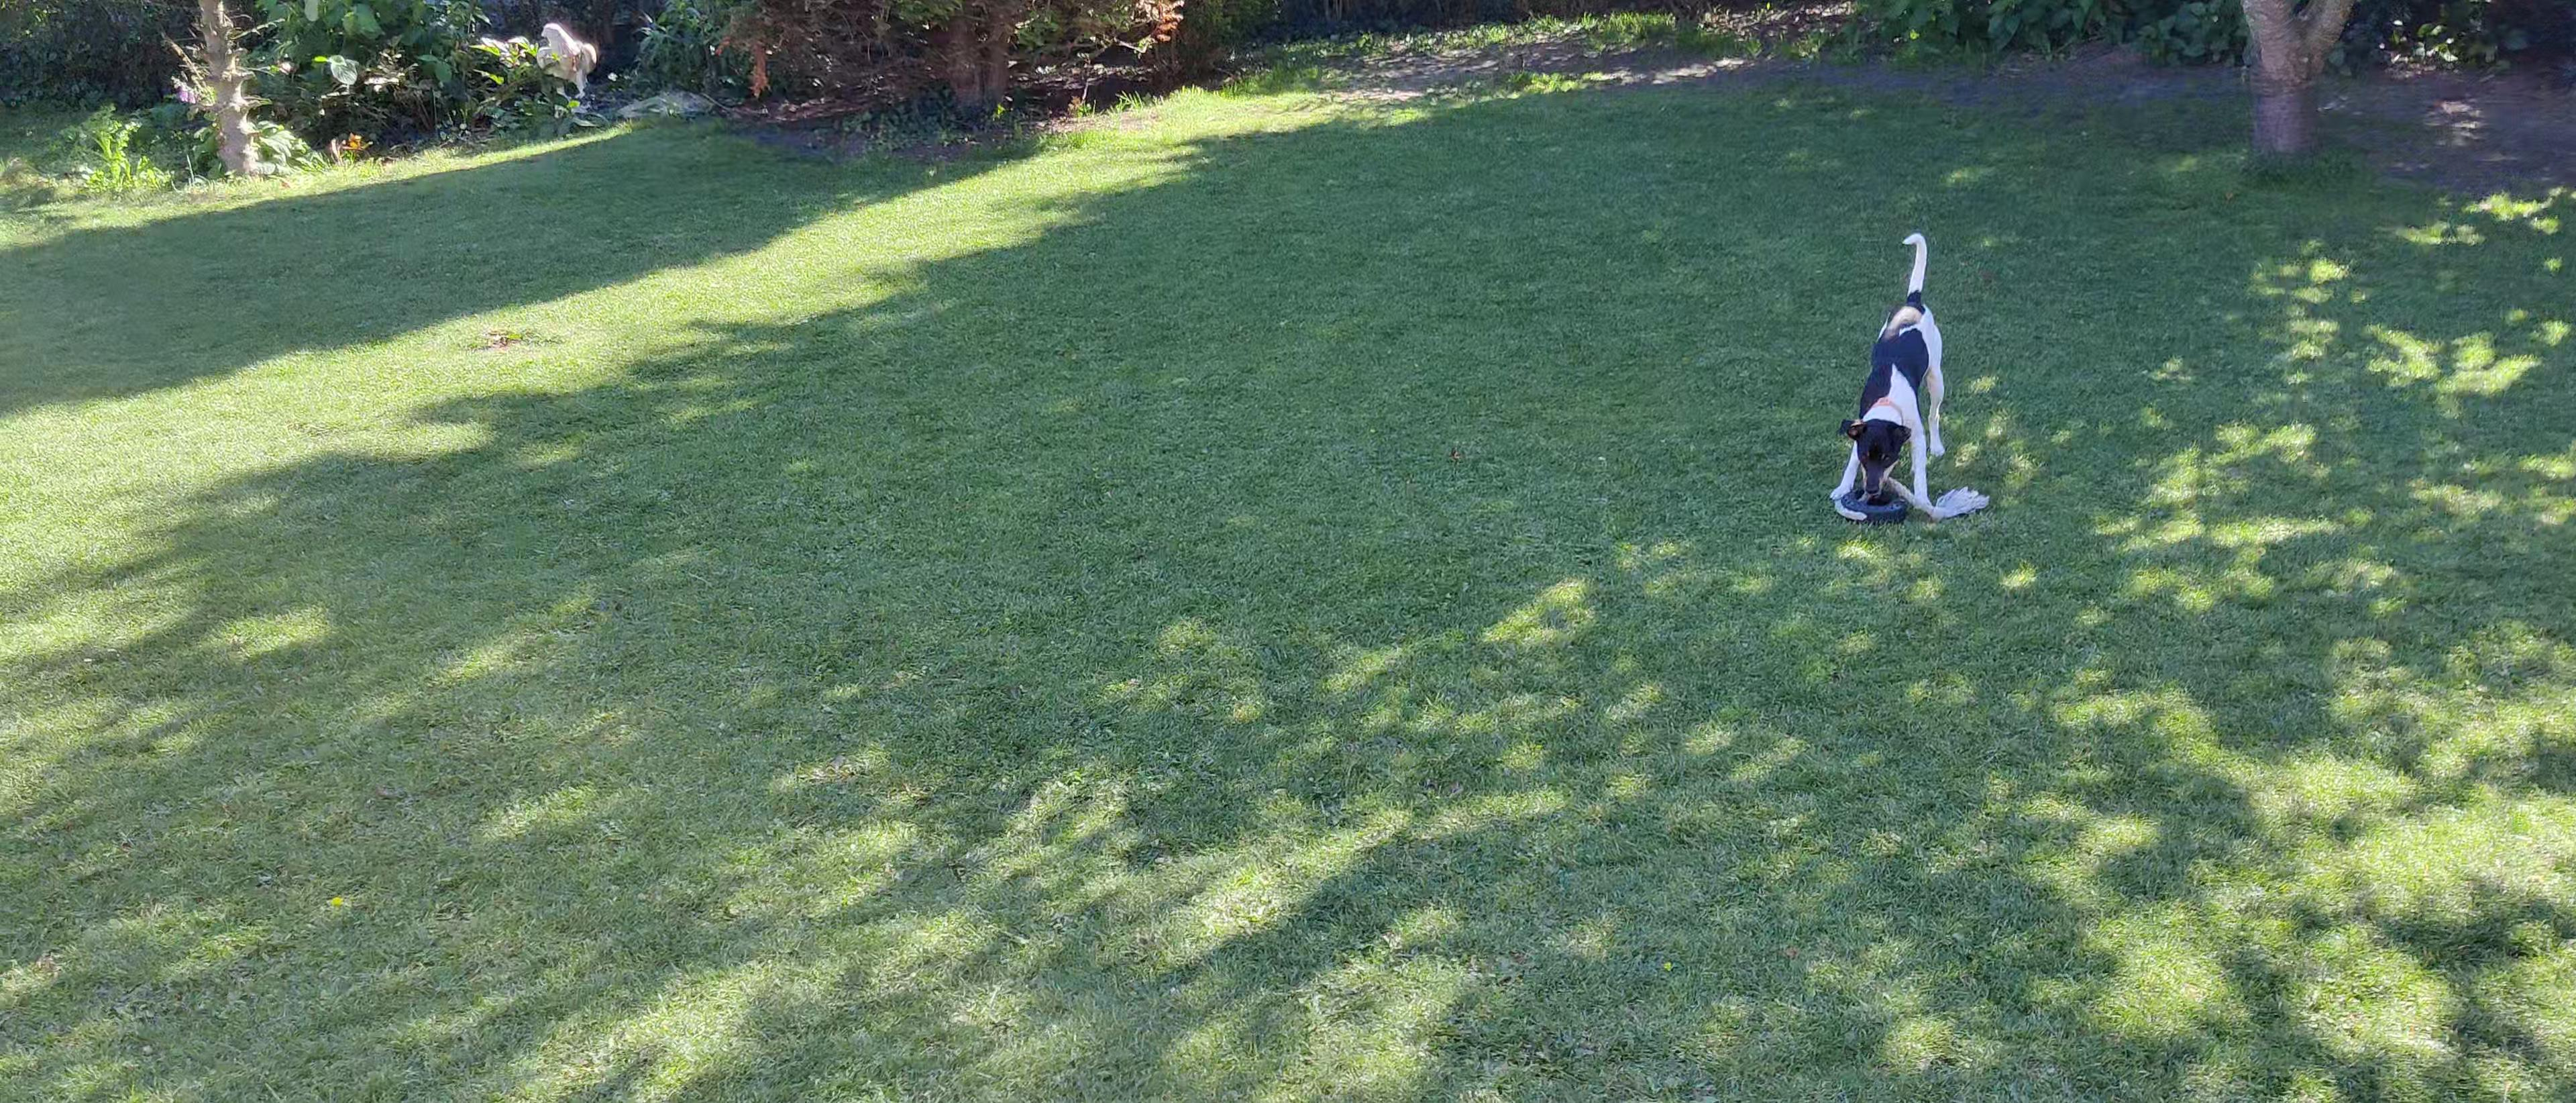Dog: (1819, 214, 1968, 523)
